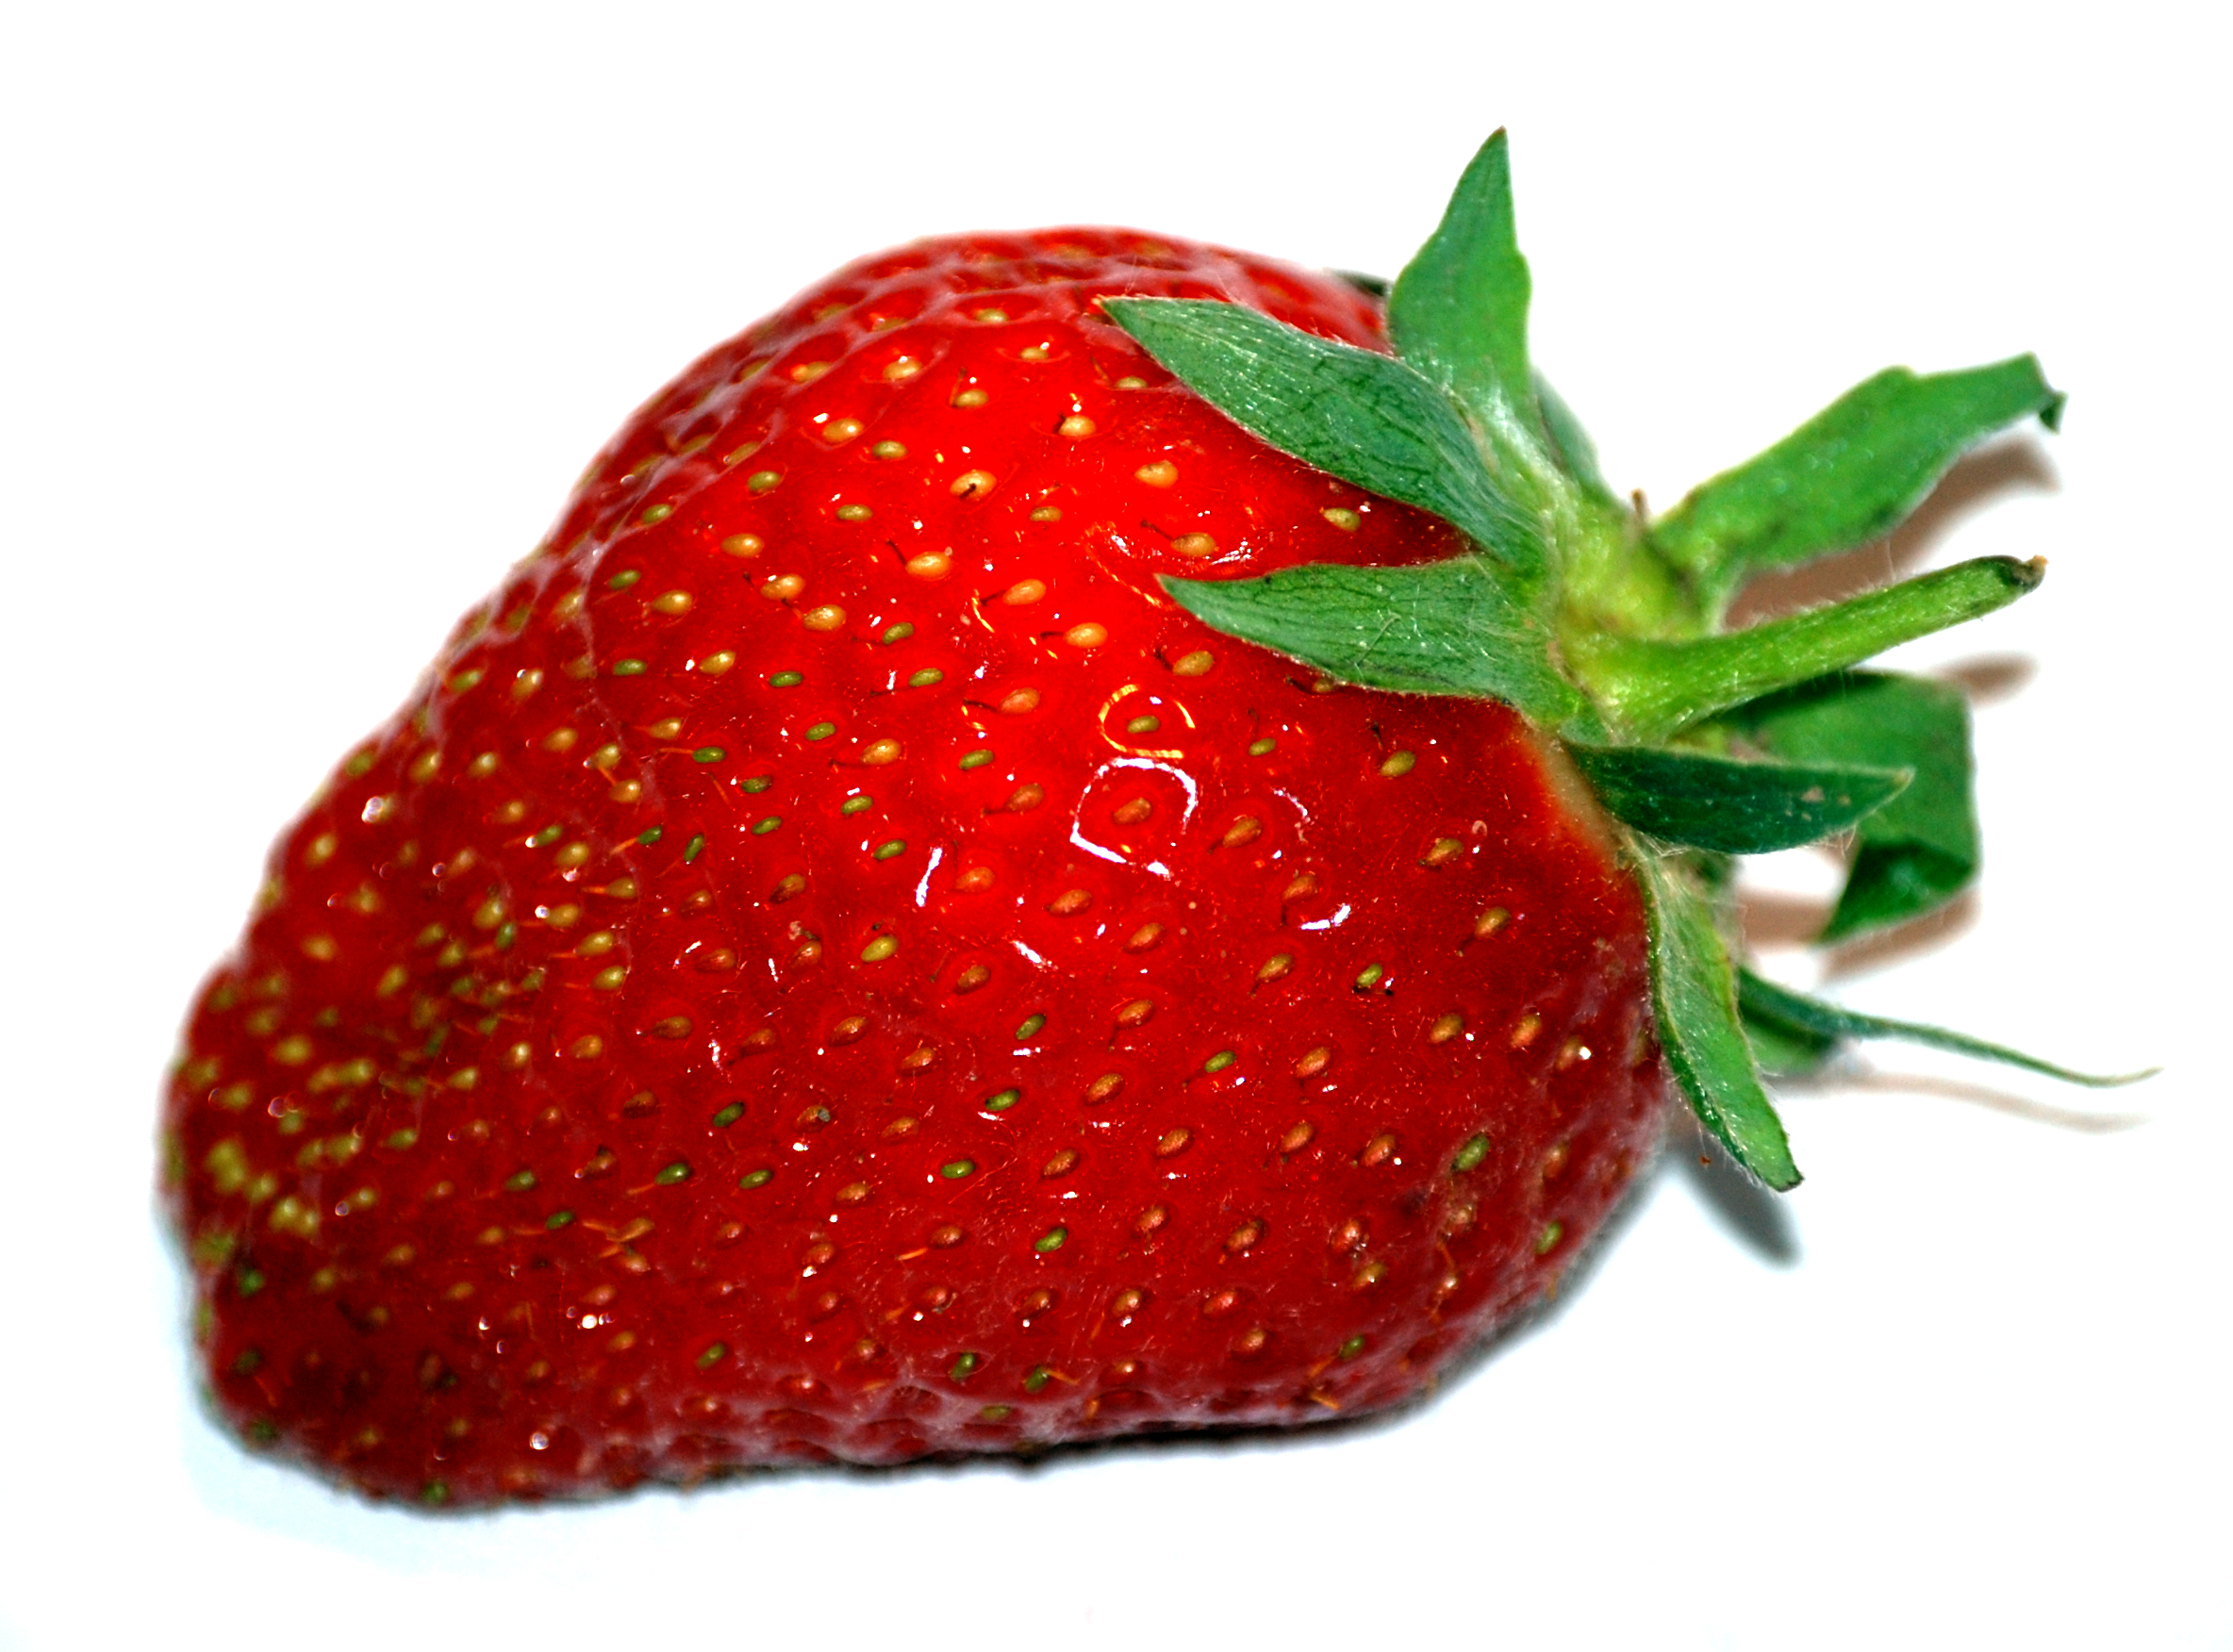strawberry: (151, 219, 1799, 1511)
